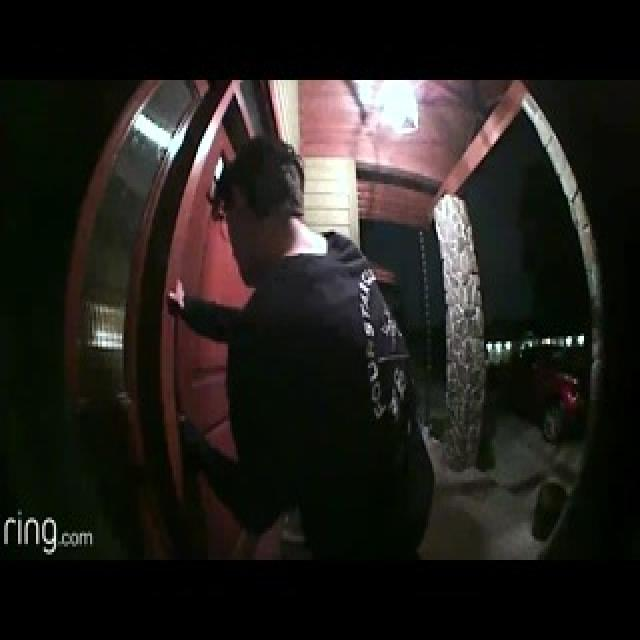thief: (192, 127, 325, 362)
